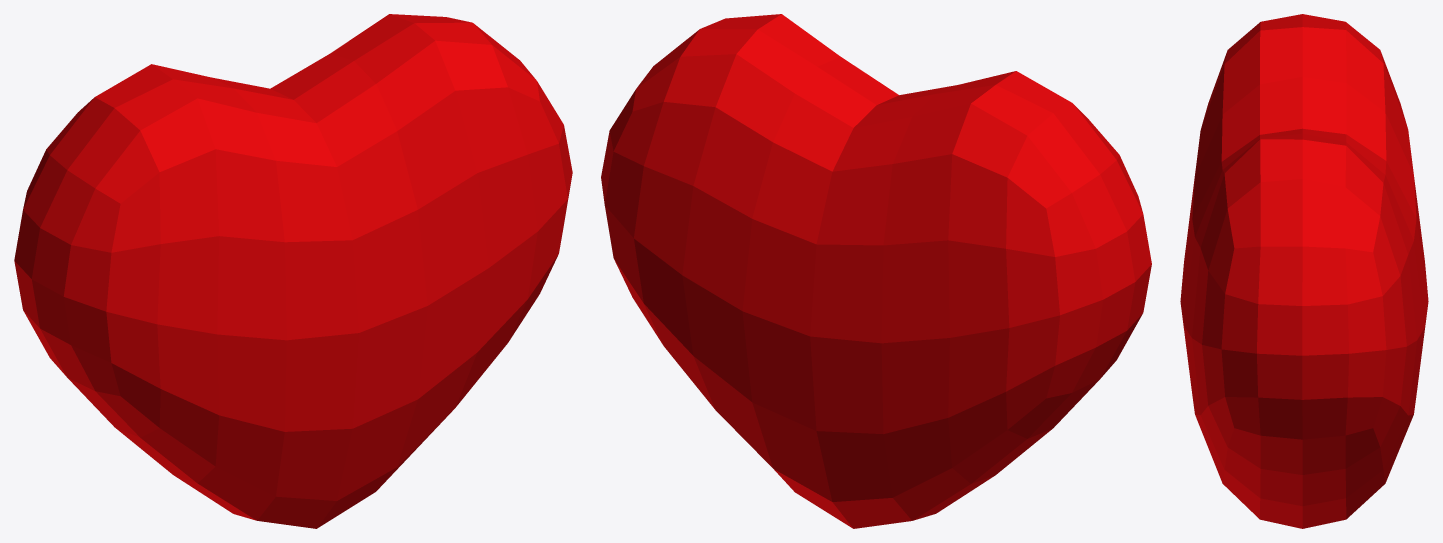
File: heart.fbx
3 views of the same model, side by side, from view 1: azimuth 30°, elevation 25°; view 2: azimuth 150°, elevation 25°; view 3: azimuth 270°, elevation 25° (orthographic). The views are drawn at different scales.
Visible parts, largest first — view 1: Cube; view 2: Cube; view 3: Cube.
Part boxes in pixels (left/top/right/bottom): Cube: left=14, top=14, right=572, bottom=528; Cube: left=601, top=14, right=1151, bottom=528; Cube: left=1180, top=14, right=1428, bottom=528.
Bounding box in the file's own units: 268 × 231 × 118.
